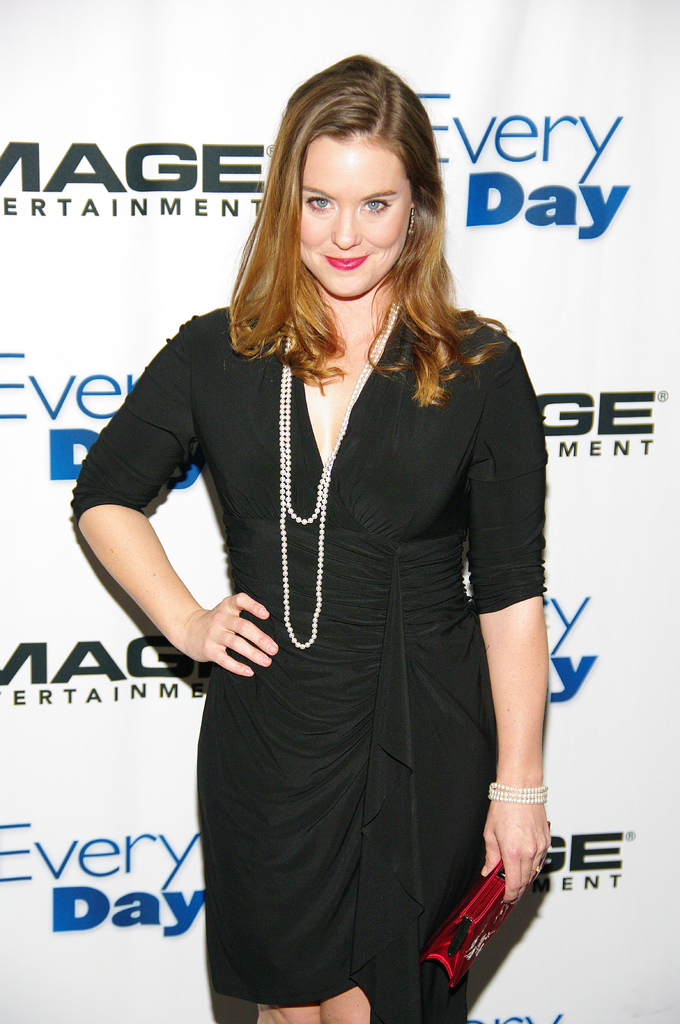Human_hand: (186, 590, 281, 677), (481, 802, 553, 908)
